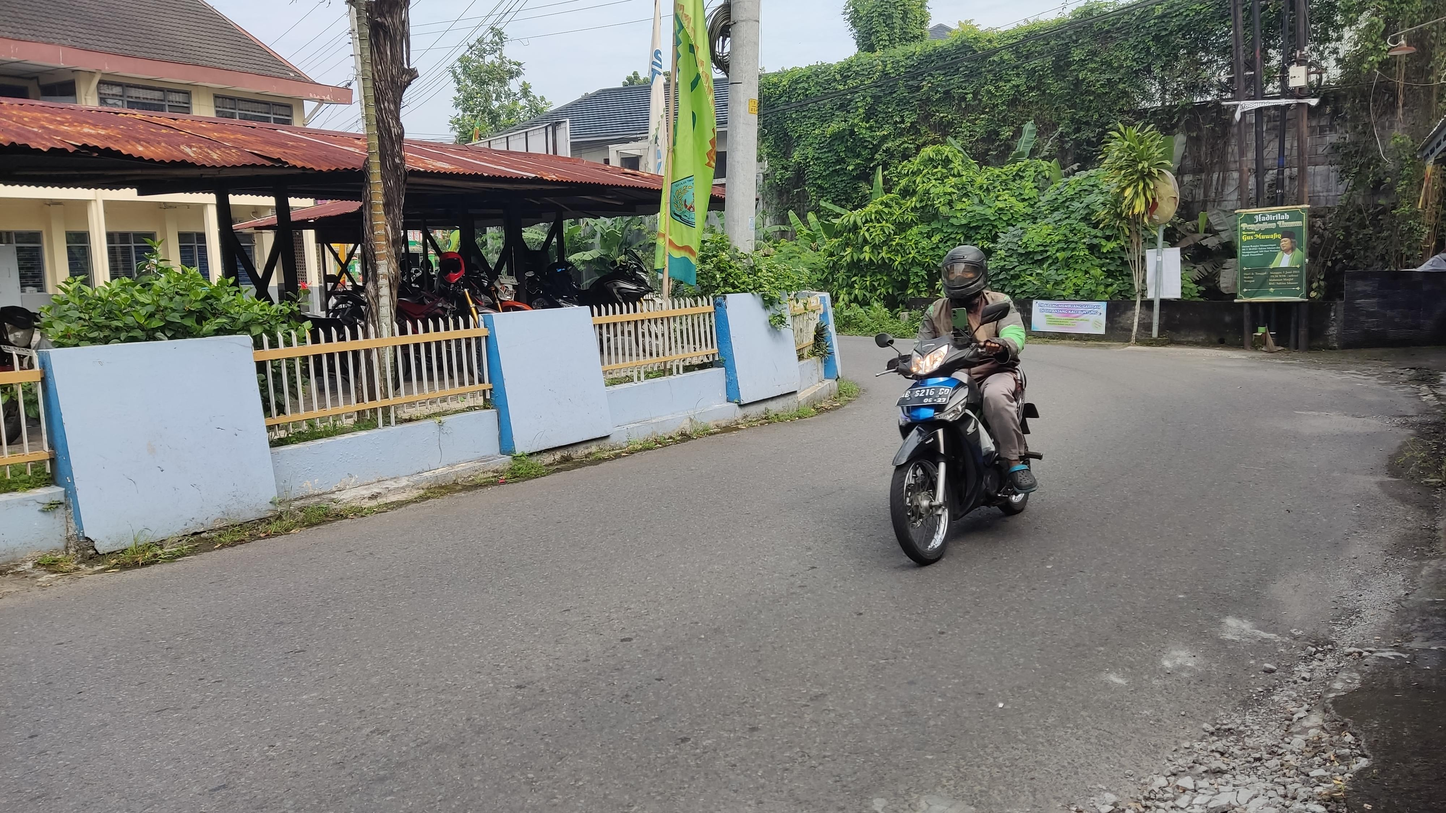helm: (934, 237, 994, 308)
riding: (869, 231, 1050, 577)
